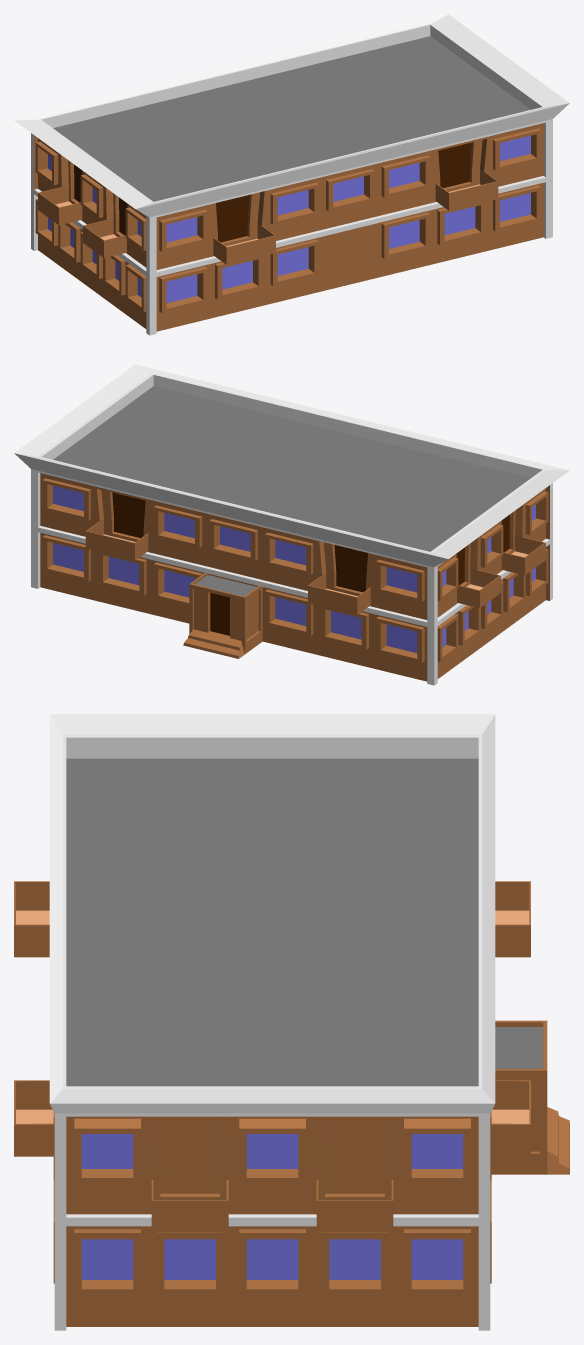
The model's file is Apartment Brown Bottom.FBX.
The picture shows the model from 3 angles, top to bottom: view 1: azimuth 30°, elevation 25°; view 2: azimuth 150°, elevation 25°; view 3: azimuth 270°, elevation 25°; orthographic projection. The views are drawn at different scales.
Parts seen in each view (by area): view 1: Apartment brown bottom; view 2: Apartment brown bottom; view 3: Apartment brown bottom.
Boxes of the visible parts, <box> form: Apartment brown bottom: <box>14,14,569,335</box>; Apartment brown bottom: <box>14,364,569,685</box>; Apartment brown bottom: <box>14,714,569,1330</box>.
Size of the model in its own units: 1231 by 349 by 731.
Materials: 1 (1 with a texture image).
